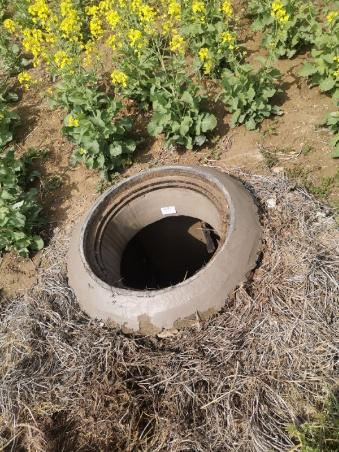wellcover: (63, 157, 268, 330)
